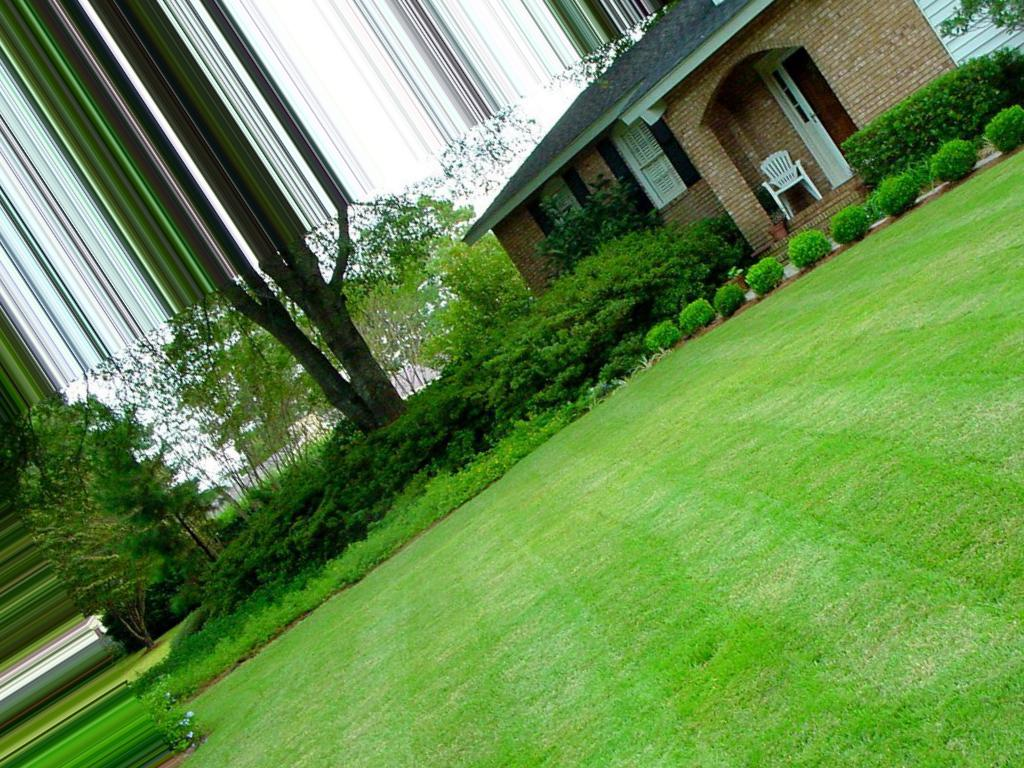patch: (264, 620, 279, 636)
